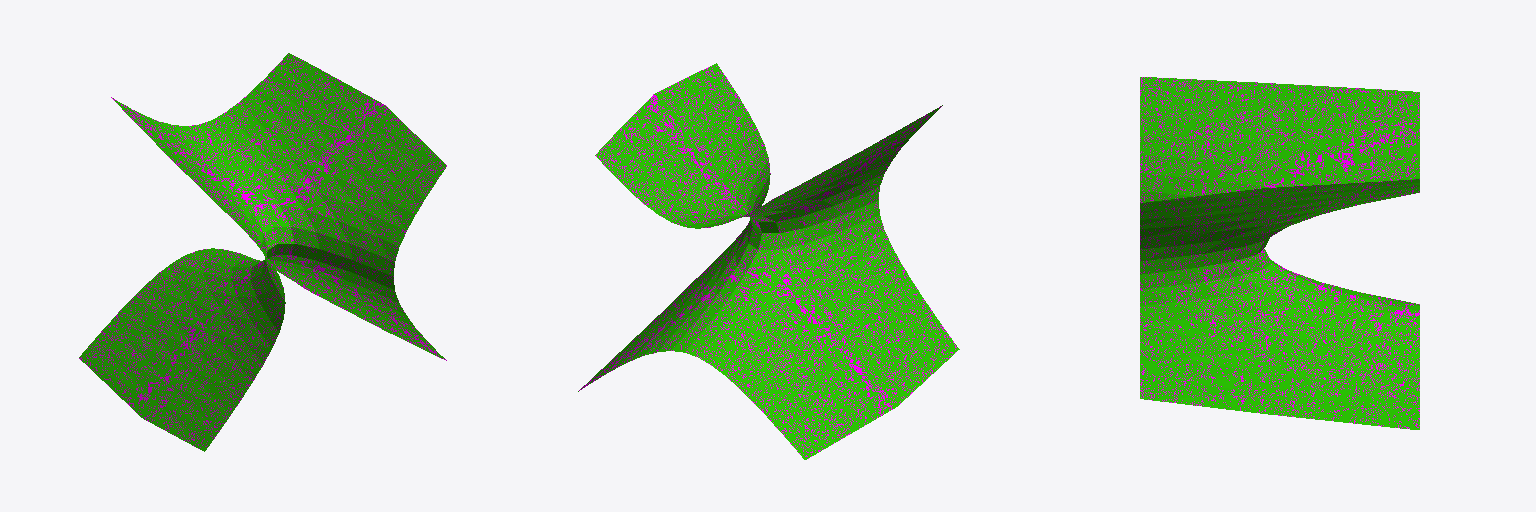
File: bloid.obj
3 renders of one model, left to right at view 1: azimuth 30°, elevation 25°; view 2: azimuth 150°, elevation 25°; view 3: azimuth 270°, elevation 25°, orthographic.
Bounding box in the file's own units: 9 × 9 × 9.